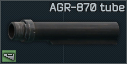FAB Defense buffer tube for AGR-870: (0, 0, 127, 64)
